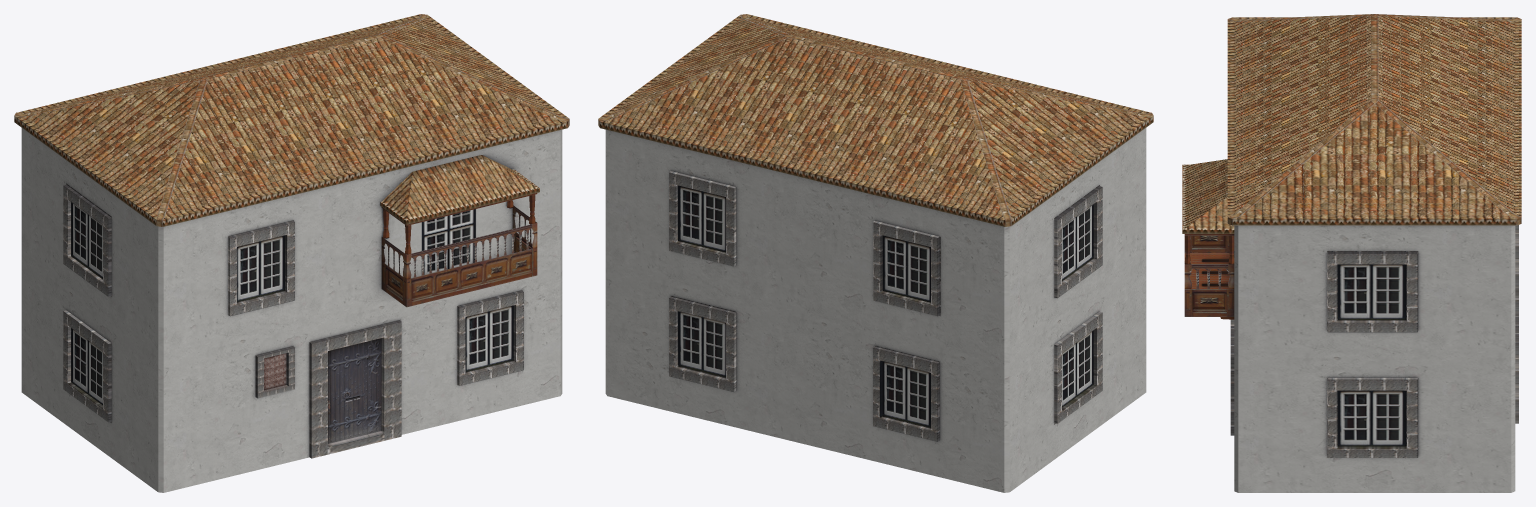
The model's file is casabalcon.fbx.
3 renders of one model, left to right at view 1: azimuth 30°, elevation 25°; view 2: azimuth 150°, elevation 25°; view 3: azimuth 270°, elevation 25°, orthographic.
Visible parts, largest first — view 1: casa_balcon; view 2: casa_balcon; view 3: casa_balcon.
Part boxes in pixels (x1,y1,x2,y2): casa_balcon: (14,14,569,492); casa_balcon: (598,14,1153,492); casa_balcon: (1182,14,1521,492).
Size of the model in its own units: 26.52 by 20.59 by 18.85.
